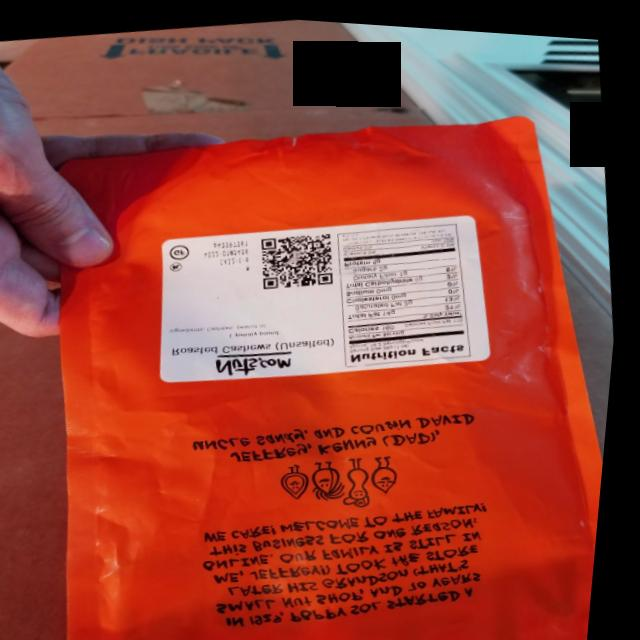QR_CODE: (244, 215, 360, 309)
